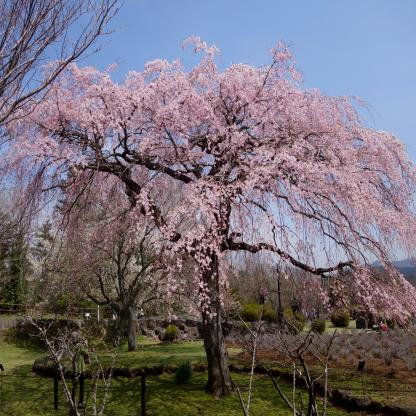EdohiganSakura: (1, 34, 416, 397)
